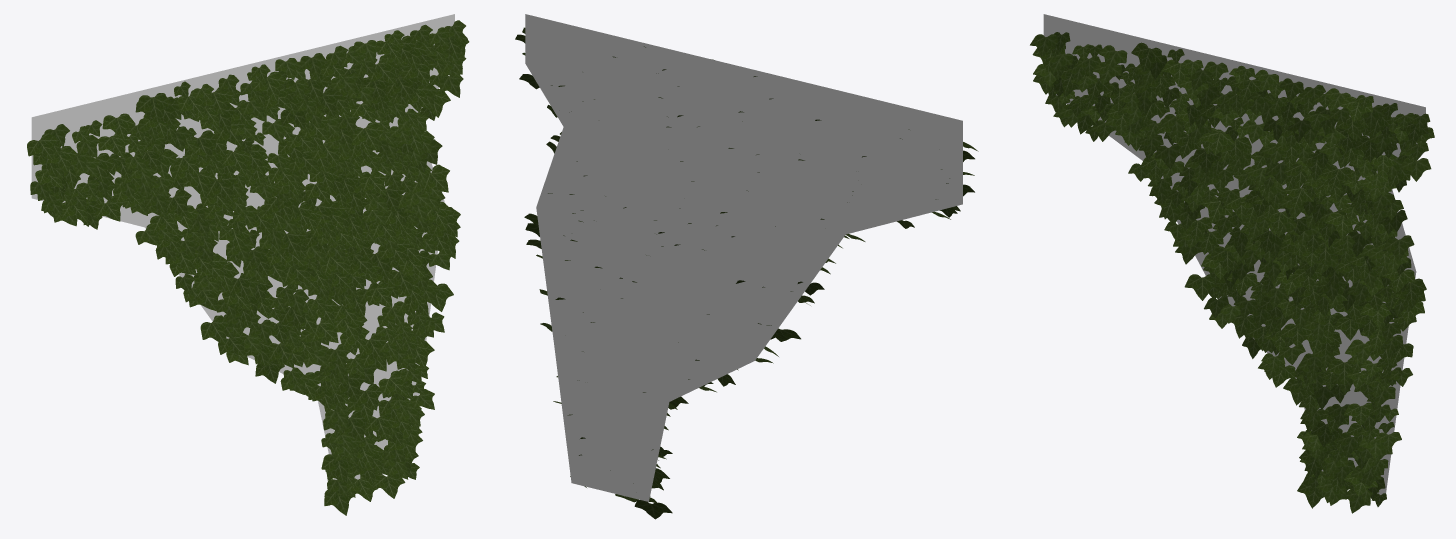
Rendered from ivywall.fbx.
3 renders of one model, left to right at view 1: azimuth 30°, elevation 25°; view 2: azimuth 150°, elevation 25°; view 3: azimuth 330°, elevation 25°, orthographic. The views are drawn at different scales.
Visible parts, largest first — view 1: Ivy1, Ivy1|ivy_transparent.002|Dupli|125, Ivy1|ivy_transparent.002|Dupli|338, Ivy1|ivy_transparent.002|Dupli|74, Ivy1|ivy_transparent.002|Dupli|229, Ivy1|ivy_transparent.002|Dupli|256; view 2: Ivy1; view 3: Ivy1, Ivy1|ivy_transparent.002|Dupli|125, Ivy1|ivy_transparent.002|Dupli|338, Ivy1|ivy_transparent.002|Dupli|113.
Boxes of the visible parts, x1,y1,x2,y2 form: Ivy1: [31, 14, 454, 479]; Ivy1|ivy_transparent.002|Dupli|125: [137, 93, 171, 123]; Ivy1|ivy_transparent.002|Dupli|338: [200, 315, 229, 344]; Ivy1|ivy_transparent.002|Dupli|74: [352, 122, 385, 150]; Ivy1|ivy_transparent.002|Dupli|229: [251, 71, 287, 100]; Ivy1|ivy_transparent.002|Dupli|256: [27, 133, 58, 160]; Ivy1: [525, 14, 962, 501]; Ivy1: [1043, 14, 1425, 494]; Ivy1|ivy_transparent.002|Dupli|125: [1131, 42, 1162, 72]; Ivy1|ivy_transparent.002|Dupli|338: [1184, 274, 1217, 300]; Ivy1|ivy_transparent.002|Dupli|113: [1200, 128, 1234, 155].
Bounding box in the file's own units: 215 × 216 × 18.49.
